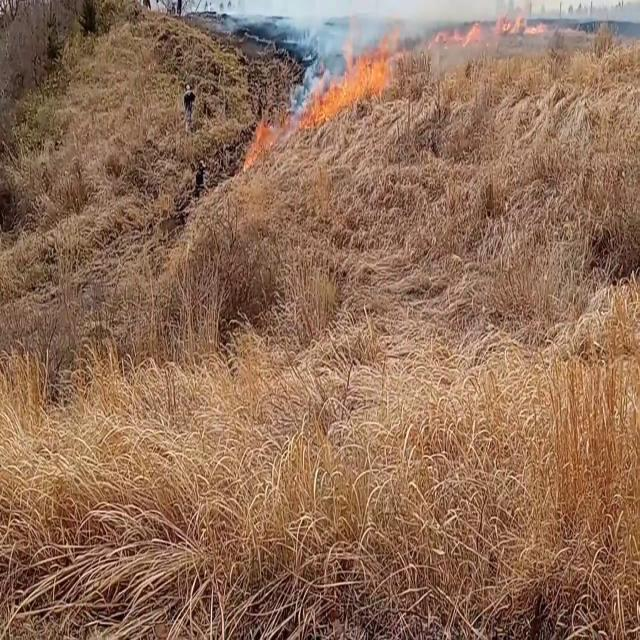Fire: (297, 15, 407, 123), (498, 4, 548, 41)
